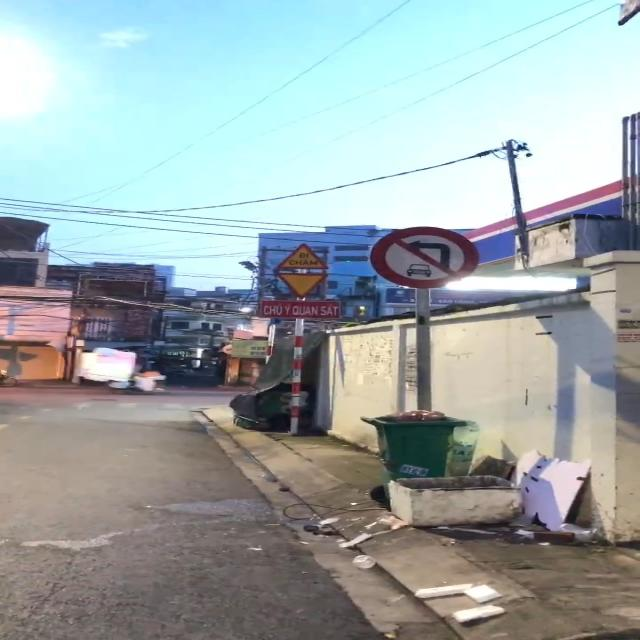Bien bao cam xe o to re trai: (366, 225, 484, 292)
Bien bao di cham: (274, 242, 330, 272)
Bien bao giao nhau voi duong uu tien: (272, 270, 330, 302)
